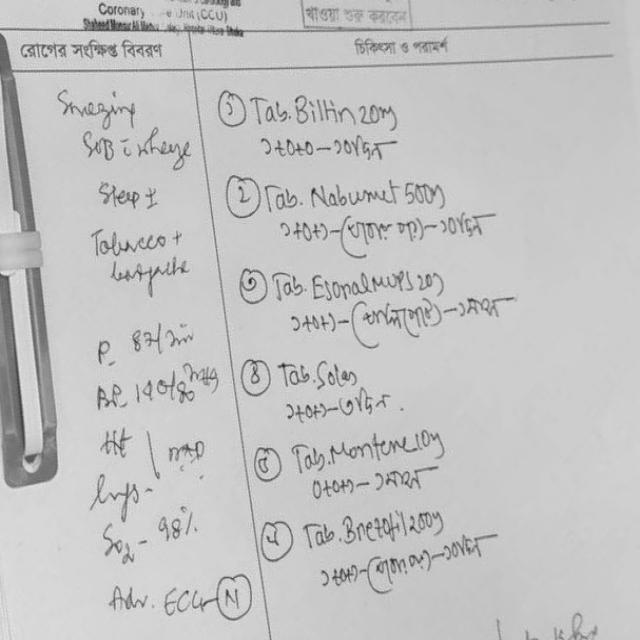medicine: (302, 172, 403, 215), (306, 269, 416, 303), (285, 88, 364, 135), (322, 430, 420, 467), (340, 508, 414, 548), (310, 355, 366, 397)
